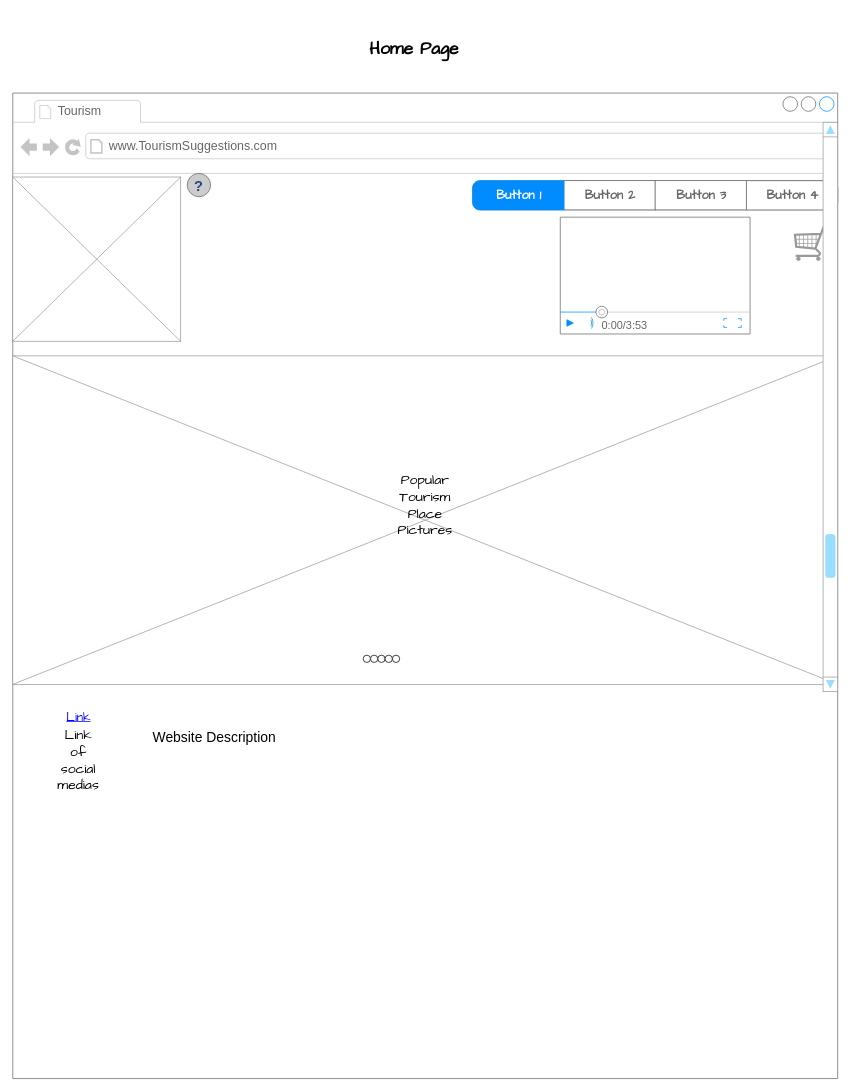
The diagram is 850 pixels wide and 1091 high, and some of its shapes have lost their labels. Here are the shapes that lost their labels. From the top down, the centre of each, then its label:
At pixel 96 258: "Website Logo".
At pixel 655 275: "Introductry video".
